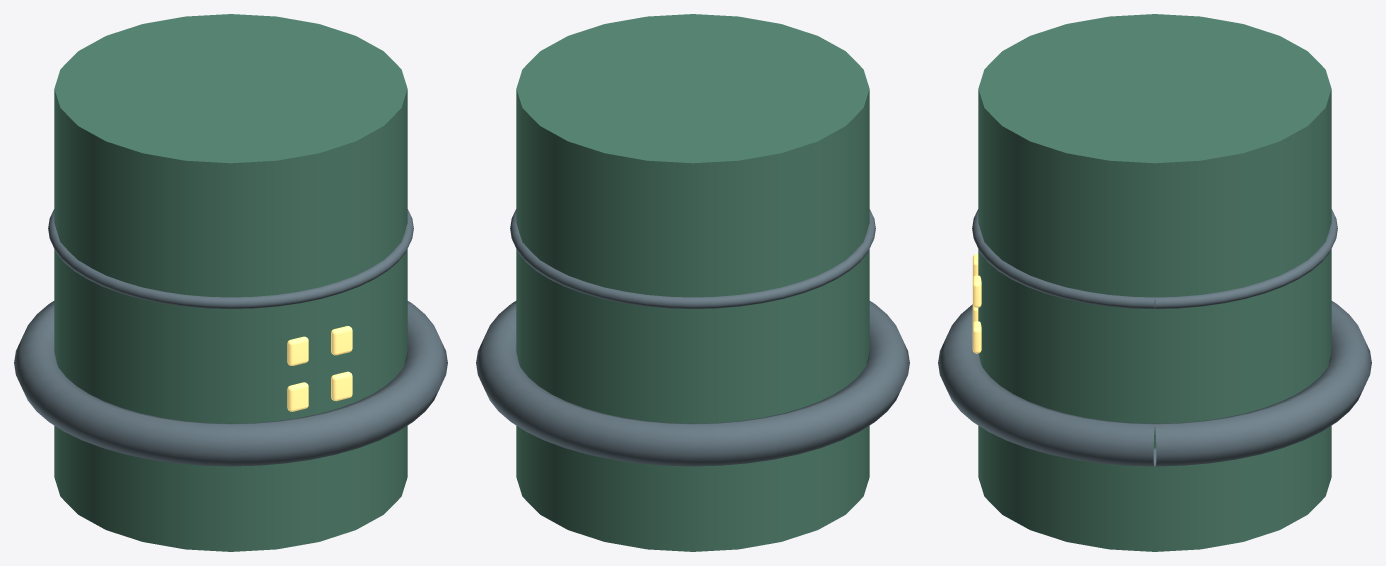
The picture shows the model from 3 angles, left to right: view 1: azimuth 30°, elevation 25°; view 2: azimuth 150°, elevation 25°; view 3: azimuth 270°, elevation 25°; orthographic projection.
Visible parts, largest first — view 1: Cylindrical tower, Tower intermediate ledge, Tower seam, Inset service window.002, Inset service window.003, Inset service window.004, Inset service window.005; view 2: Cylindrical tower, Tower intermediate ledge, Tower seam; view 3: Cylindrical tower, Tower intermediate ledge, Tower seam.
Part boxes in pixels (bbox=[...]): Cylindrical tower: bbox=[54, 14, 407, 551]; Tower intermediate ledge: bbox=[14, 301, 447, 466]; Tower seam: bbox=[48, 209, 413, 308]; Inset service window.002: bbox=[287, 382, 308, 411]; Inset service window.003: bbox=[331, 371, 352, 401]; Inset service window.004: bbox=[287, 336, 308, 365]; Inset service window.005: bbox=[331, 326, 352, 355]; Cylindrical tower: bbox=[516, 14, 869, 551]; Tower intermediate ledge: bbox=[476, 301, 909, 466]; Tower seam: bbox=[510, 209, 875, 308]; Cylindrical tower: bbox=[978, 14, 1331, 551]; Tower intermediate ledge: bbox=[938, 301, 1371, 466]; Tower seam: bbox=[972, 209, 1337, 308].
Bounding box in the file's own units: 1.72 × 1.7 × 1.72.
